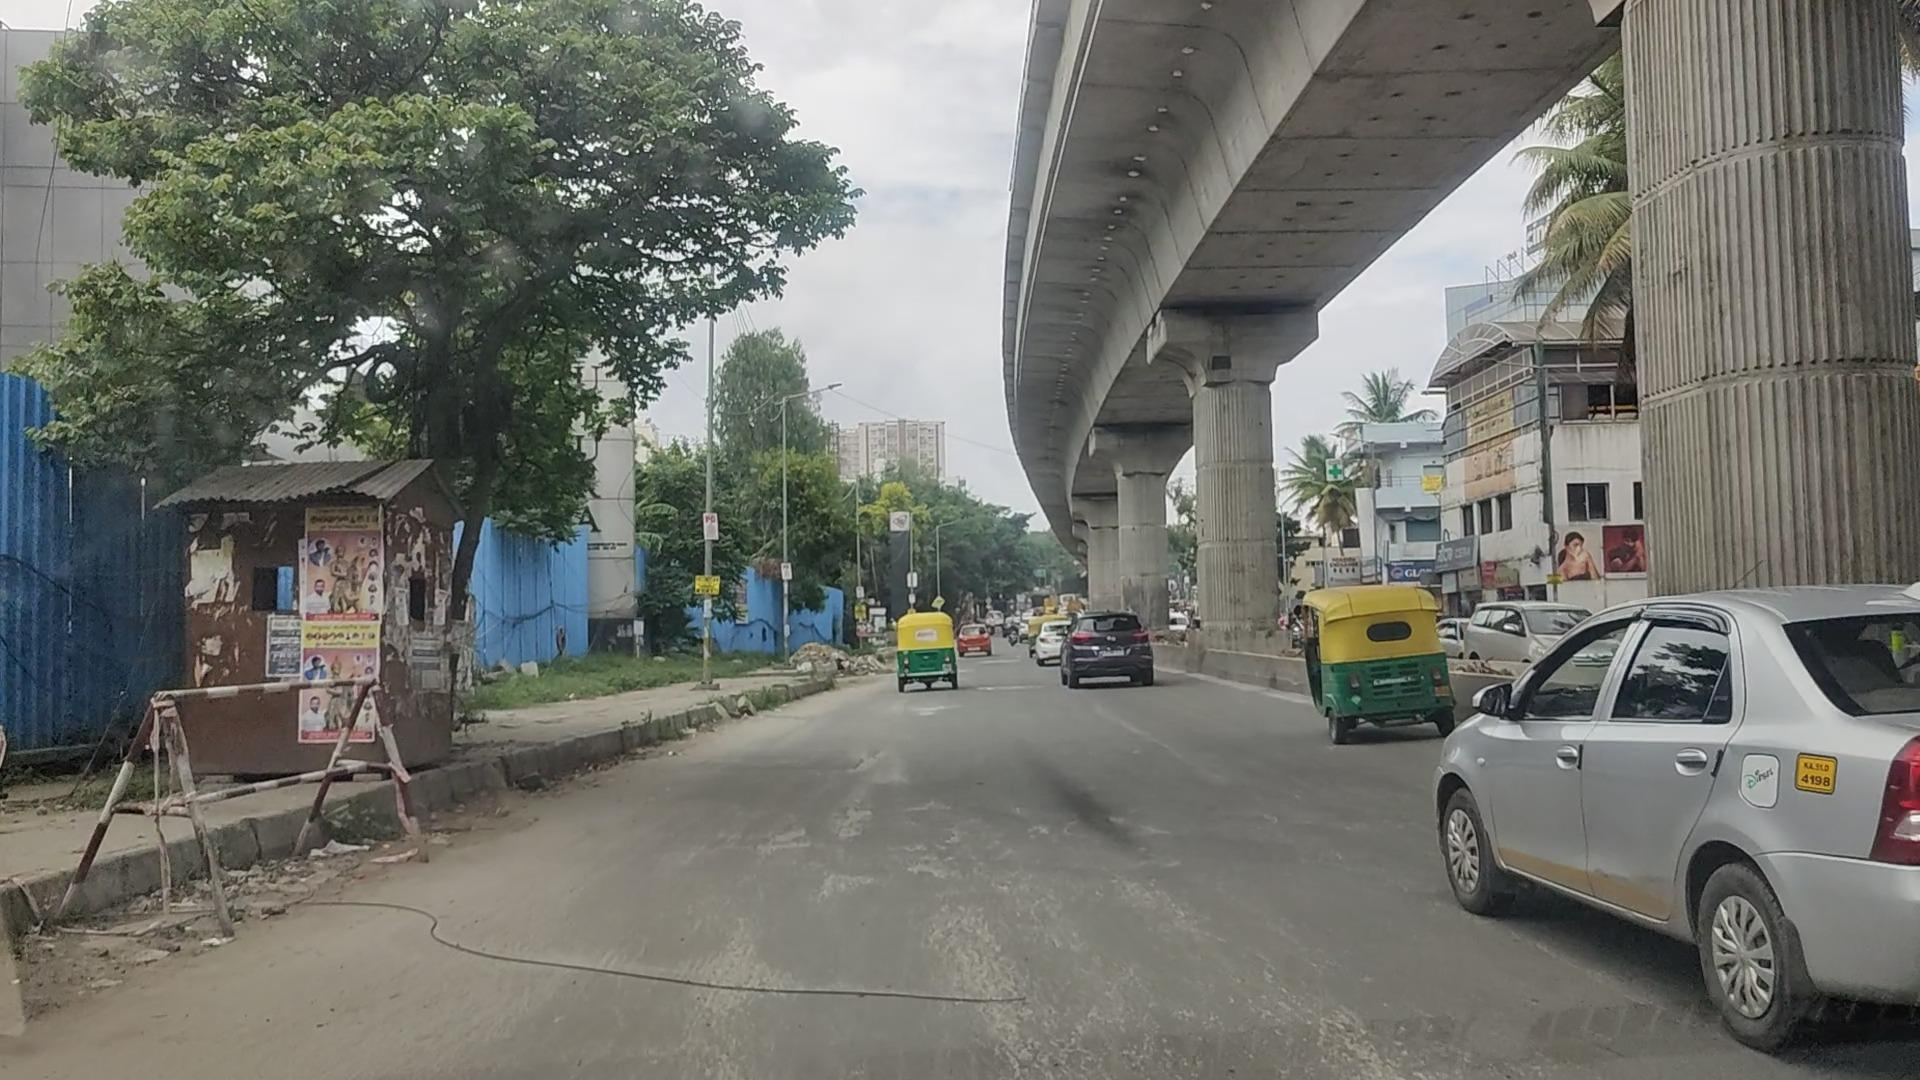LMV: (1296, 582, 1452, 721), (1058, 612, 1151, 683), (898, 611, 960, 683)
RoadDamages: (802, 736, 910, 855), (976, 674, 1048, 704)
